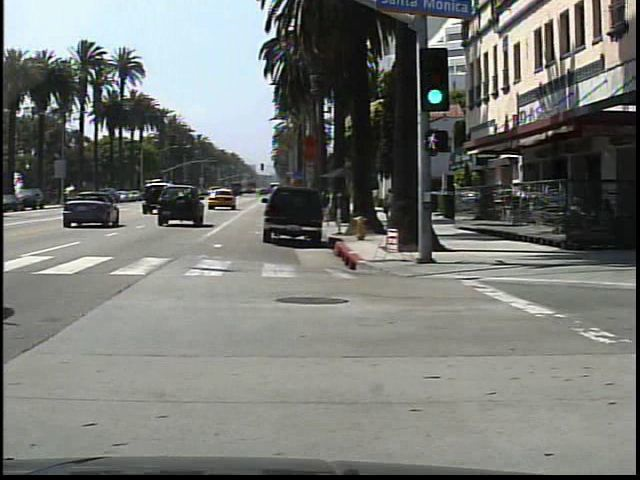person: (383, 184, 396, 226)
